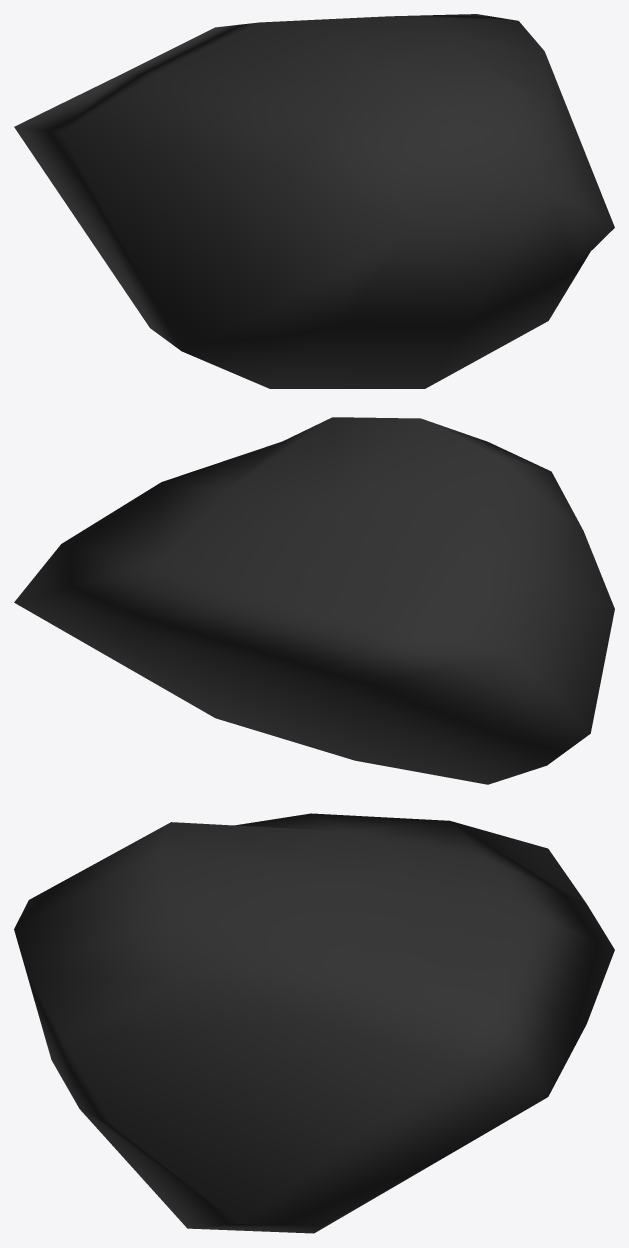
File: Beard_Black_1.fbx
The picture shows the model from 3 angles, top to bottom: view 1: azimuth 30°, elevation 25°; view 2: azimuth 150°, elevation 25°; view 3: azimuth 270°, elevation 25°; orthographic projection. The views are drawn at different scales.
Visible parts, largest first — view 1: Beard_Black_1; view 2: Beard_Black_1; view 3: Beard_Black_1.
Boxes of the visible parts, x1,y1,x2,y2 form: Beard_Black_1: [14, 14, 614, 388]; Beard_Black_1: [14, 417, 614, 784]; Beard_Black_1: [14, 813, 614, 1233].
Bounding box in the file's own units: 14.67 × 9.05 × 15.
